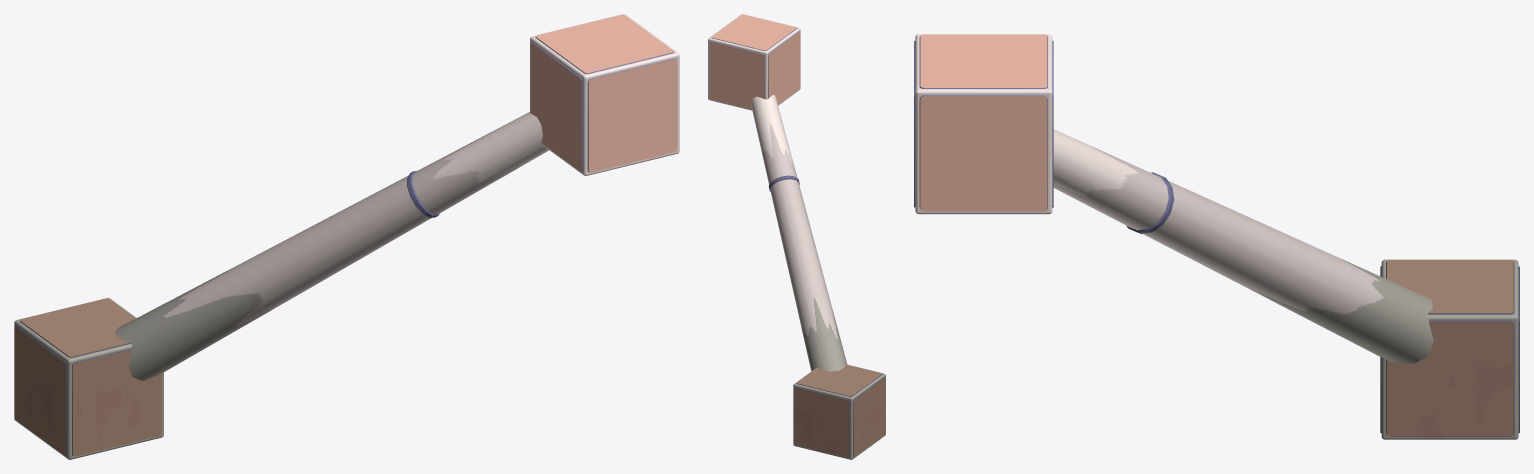
Rendered from R4C_ROD_DIAG_3D.glb.
3 views of the same model, side by side, from view 1: azimuth 30°, elevation 25°; view 2: azimuth 150°, elevation 25°; view 3: azimuth 270°, elevation 25° (orthographic). The views are drawn at different scales.
Visible parts, largest first — view 1: R4C_ROD_DIAG_3D; view 2: R4C_ROD_DIAG_3D; view 3: R4C_ROD_DIAG_3D.
Part boxes in pixels (bbox=[...]): R4C_ROD_DIAG_3D: bbox=[14, 14, 679, 459]; R4C_ROD_DIAG_3D: bbox=[708, 14, 885, 459]; R4C_ROD_DIAG_3D: bbox=[914, 34, 1519, 439].
Size of the model in its own units: 1.62 by 1.62 by 1.62.
3 materials, 3 textured.
